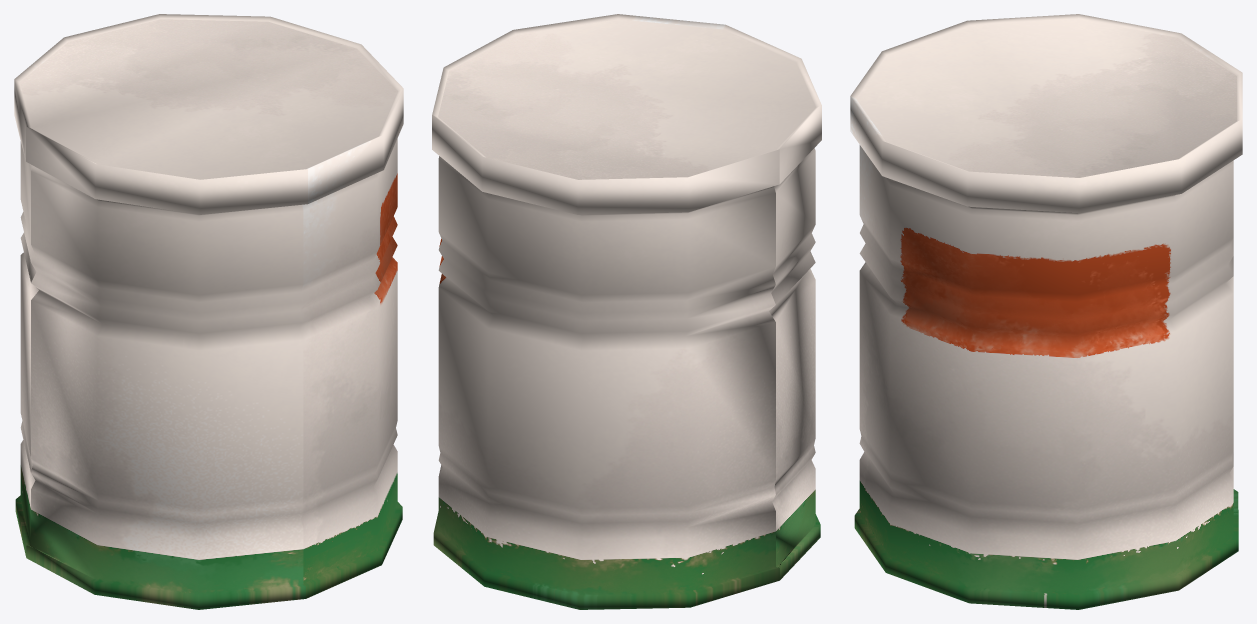
The model's file is 01-cafeconserve-model.glb.
3 views of the same model, side by side, from view 1: azimuth 30°, elevation 25°; view 2: azimuth 150°, elevation 25°; view 3: azimuth 270°, elevation 25° (orthographic).
Parts seen in each view (by area): view 1: 01-cafeconserve-model; view 2: 01-cafeconserve-model; view 3: 01-cafeconserve-model.
Part boxes in pixels (x1=…): 01-cafeconserve-model: x1=14, y1=14, x2=403, y2=609; 01-cafeconserve-model: x1=432, y1=14, x2=821, y2=609; 01-cafeconserve-model: x1=850, y1=14, x2=1242, y2=609.
Bounding box in the file's own units: 2.03 × 2.5 × 2.06.
1 material, 1 textured.
